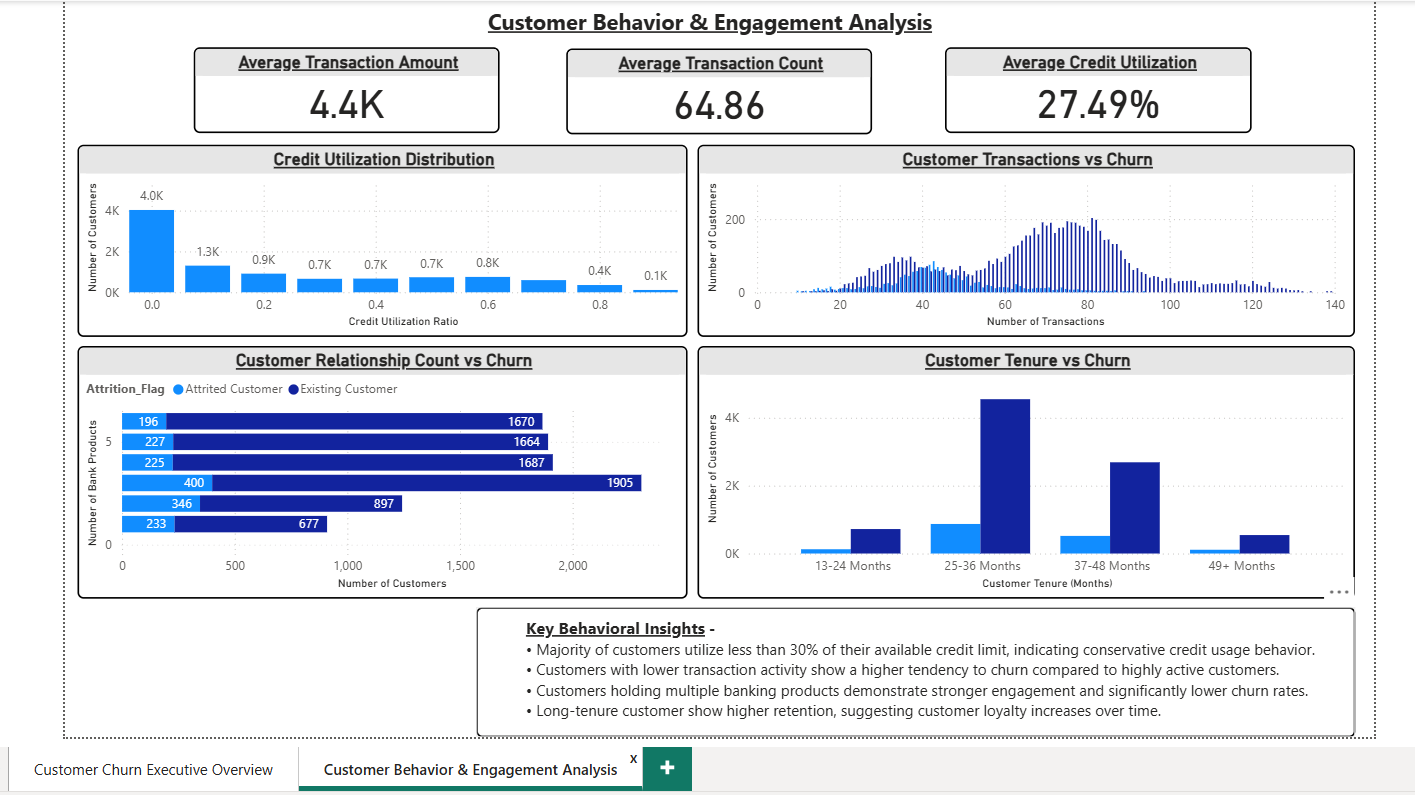

What the dashboard file says about the page in this screenshot:
{"tool":"powerbi","page":{"name":"Customer Behavior & Engagement Analysis","canvas":[1280,720],"ordinal":1},"visuals":[{"type":"textbox","box":[0,0,1262,45.2],"z":0},{"type":"card","title":"Average Transaction Amount","fields":{"Values":["Avg(bankchurners.Total_Trans_Amt)"]},"box":[126,45.2,299.6,84.4],"z":1000},{"type":"card","title":"Average Transaction Count","fields":{"Values":["Avg(bankchurners.Total_Trans_Ct)"]},"box":[490.4,46.5,299.6,84.4],"z":2000},{"type":"card","title":"Average Credit Utilization","fields":{"Values":["Avg(bankchurners.Avg_Utilization_Ratio)"]},"box":[860.9,45.2,300,84.4],"z":3000},{"type":"clusteredColumnChart","title":"Credit Utilization Distribution","fields":{"Y":["CountNonNull(bankchurners.CLIENTNUM)"],"Category":["bankchurners.Avg_Utilization_Ratio (bins)"]},"box":[12.2,140.6,596.7,188.3],"z":3001},{"type":"clusteredColumnChart","title":"Customer Transactions vs Churn","fields":{"Category":["bankchurners.Total_Trans_Ct"],"Y":["CountNonNull(bankchurners.CLIENTNUM)"],"Series":["bankchurners.Attrition_Flag"]},"box":[618.8,140.6,643.2,188.3],"z":3002},{"type":"barChart","title":"Customer Relationship Count vs Churn","fields":{"Category":["bankchurners.Total_Relationship_Count"],"Y":["CountNonNull(bankchurners.CLIENTNUM)"],"Series":["bankchurners.Attrition_Flag"]},"box":[12.2,337.5,596.7,247],"z":3003},{"type":"clusteredColumnChart","title":"Customer Tenure vs Churn","fields":{"Y":["CountNonNull(bankchurners.CLIENTNUM)"],"Series":["bankchurners.Attrition_Flag"],"Category":["bankchurners.Tenure Group"]},"box":[618.8,337.5,643.2,247],"z":3004},{"type":"textbox","box":[402.3,593.1,859.7,127.2],"z":3005}]}

Visuals, with their boxes on the page's 1280x720 design canvas (x1, y1, x2, y2). These are canvas units, not pixel positions in the 1415x795 screenshot, which may show the page scaled, cropped or inside an application window:
textbox: [0,0,1262,45]
"Average Transaction Amount" card: [126,45,426,130]
"Average Transaction Count" card: [490,46,790,131]
"Average Credit Utilization" card: [861,45,1161,130]
"Credit Utilization Distribution" clusteredColumnChart: [12,141,609,329]
"Customer Transactions vs Churn" clusteredColumnChart: [619,141,1262,329]
"Customer Relationship Count vs Churn" barChart: [12,338,609,584]
"Customer Tenure vs Churn" clusteredColumnChart: [619,338,1262,584]
textbox: [402,593,1262,720]
